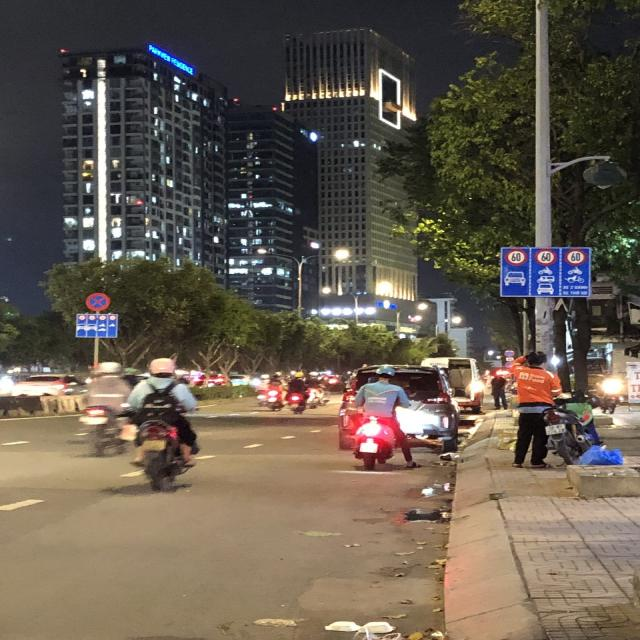Bien bao cam dung xe va do xe: (82, 291, 114, 312)
Bien bao toc do toi da cho phep: (503, 247, 529, 267), (563, 247, 588, 267), (535, 246, 559, 266)
